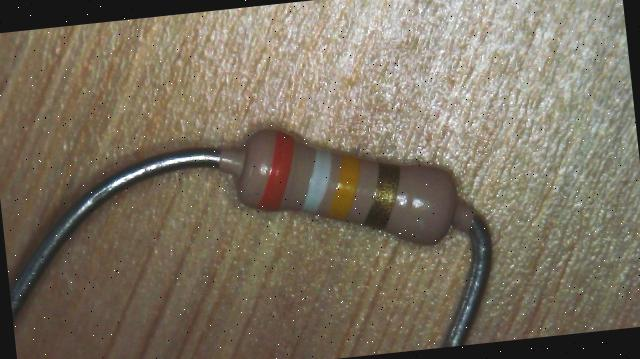gold: (359, 161, 405, 229)
orange: (251, 130, 300, 211)
resistor: (202, 103, 497, 264)
white: (298, 147, 338, 213)
yellow: (322, 152, 366, 222)
